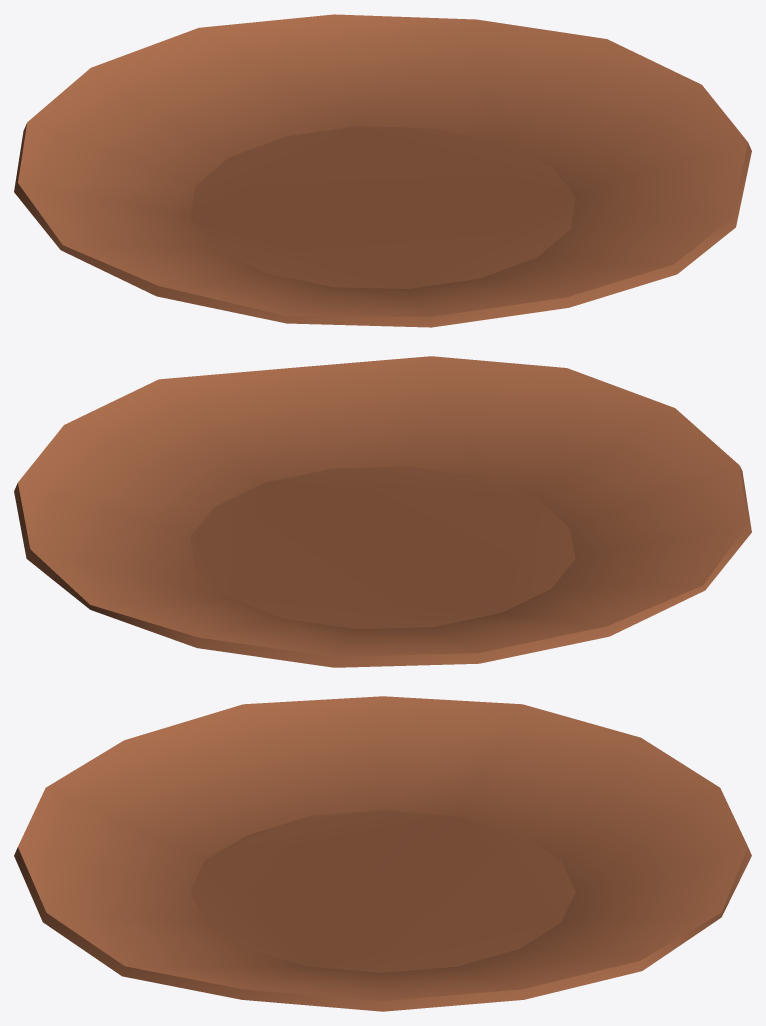
File: obj_plateRound_C_LOW.FBX
3 renders of one model, top to bottom at view 1: azimuth 30°, elevation 25°; view 2: azimuth 150°, elevation 25°; view 3: azimuth 270°, elevation 25°, orthographic.
Parts seen in each view (by area): view 1: obj_plateRound_C_LOW; view 2: obj_plateRound_C_LOW; view 3: obj_plateRound_C_LOW.
Part boxes in pixels (x1,y1,x2,y2): obj_plateRound_C_LOW: [14, 14, 751, 327]; obj_plateRound_C_LOW: [14, 356, 751, 667]; obj_plateRound_C_LOW: [14, 696, 751, 1011].
Size of the model in its own units: 1.33 by 0.1165 by 1.33.
